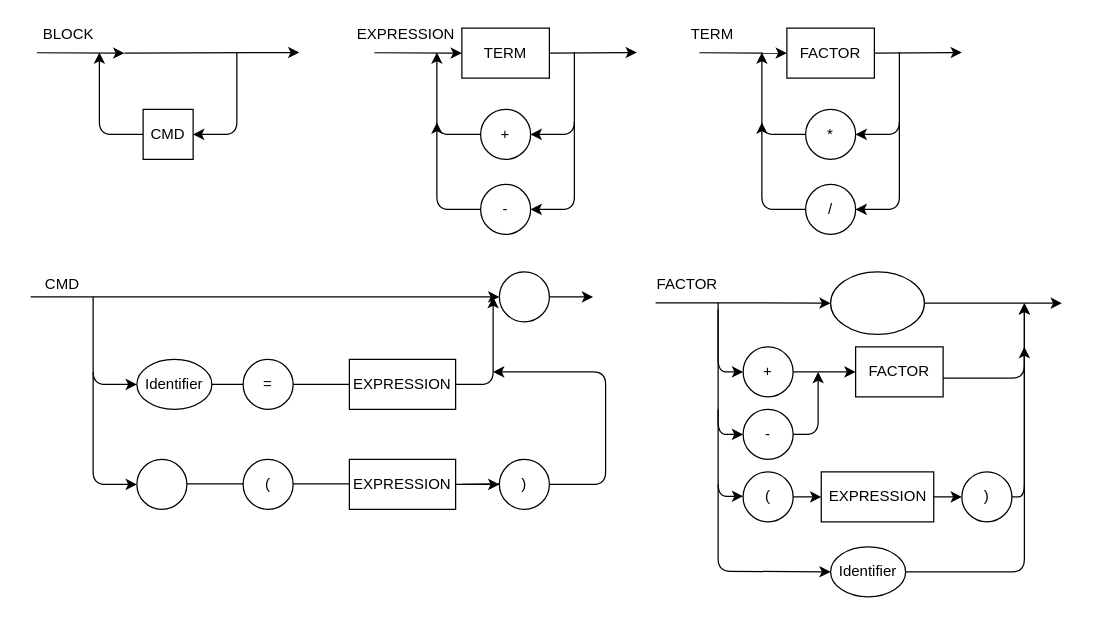
This 1094x619 diagram has some shape labels left out. The box of each missing label's shape, as (x1, y1, x2, y2) in pixels:
\n: (498, 271, 549, 322)
NUMBER: (829, 271, 924, 334)
println: (136, 458, 187, 509)
